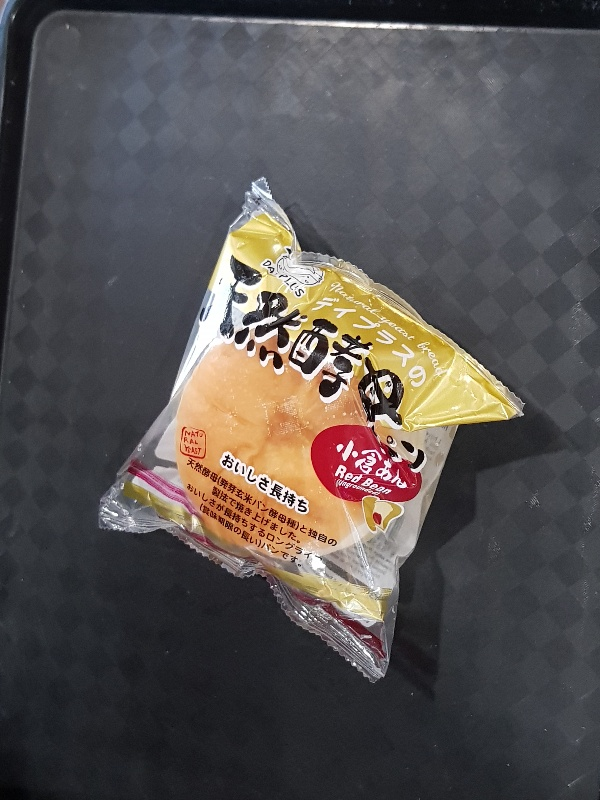Dayplus Red Bean: (97, 176, 525, 683)
